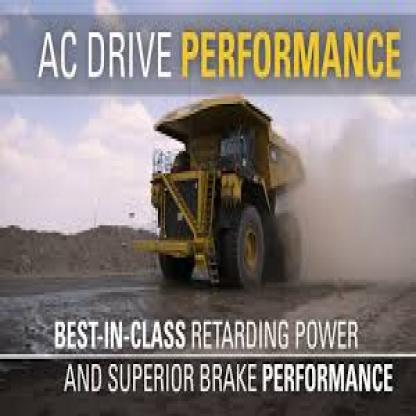dump_truck: (141, 87, 312, 302)
